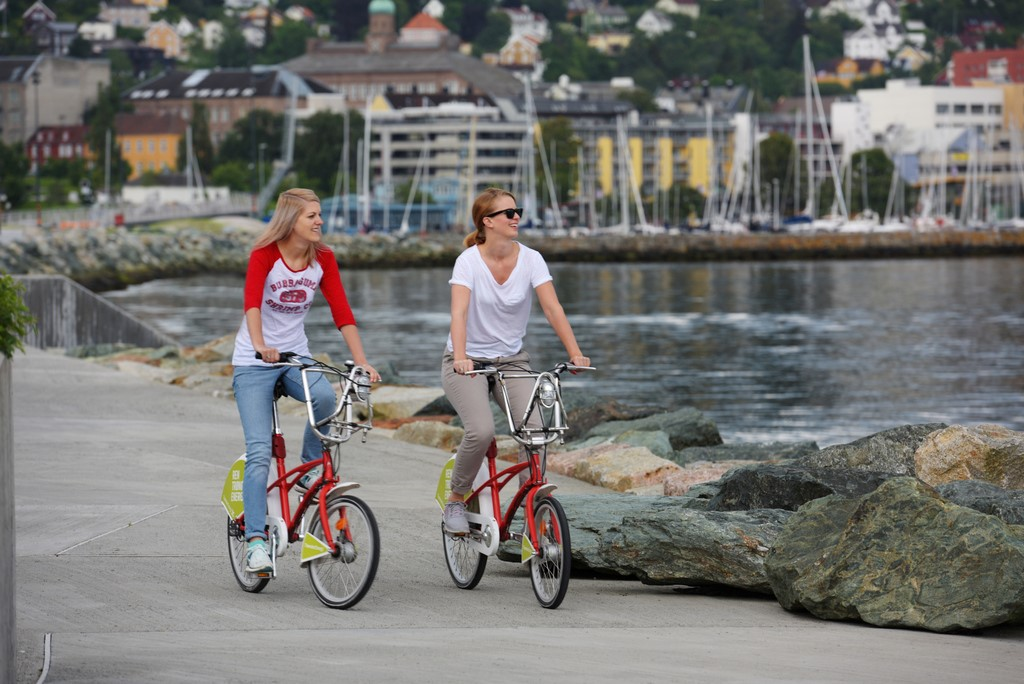Person: (231, 186, 383, 573), (440, 186, 592, 535)
